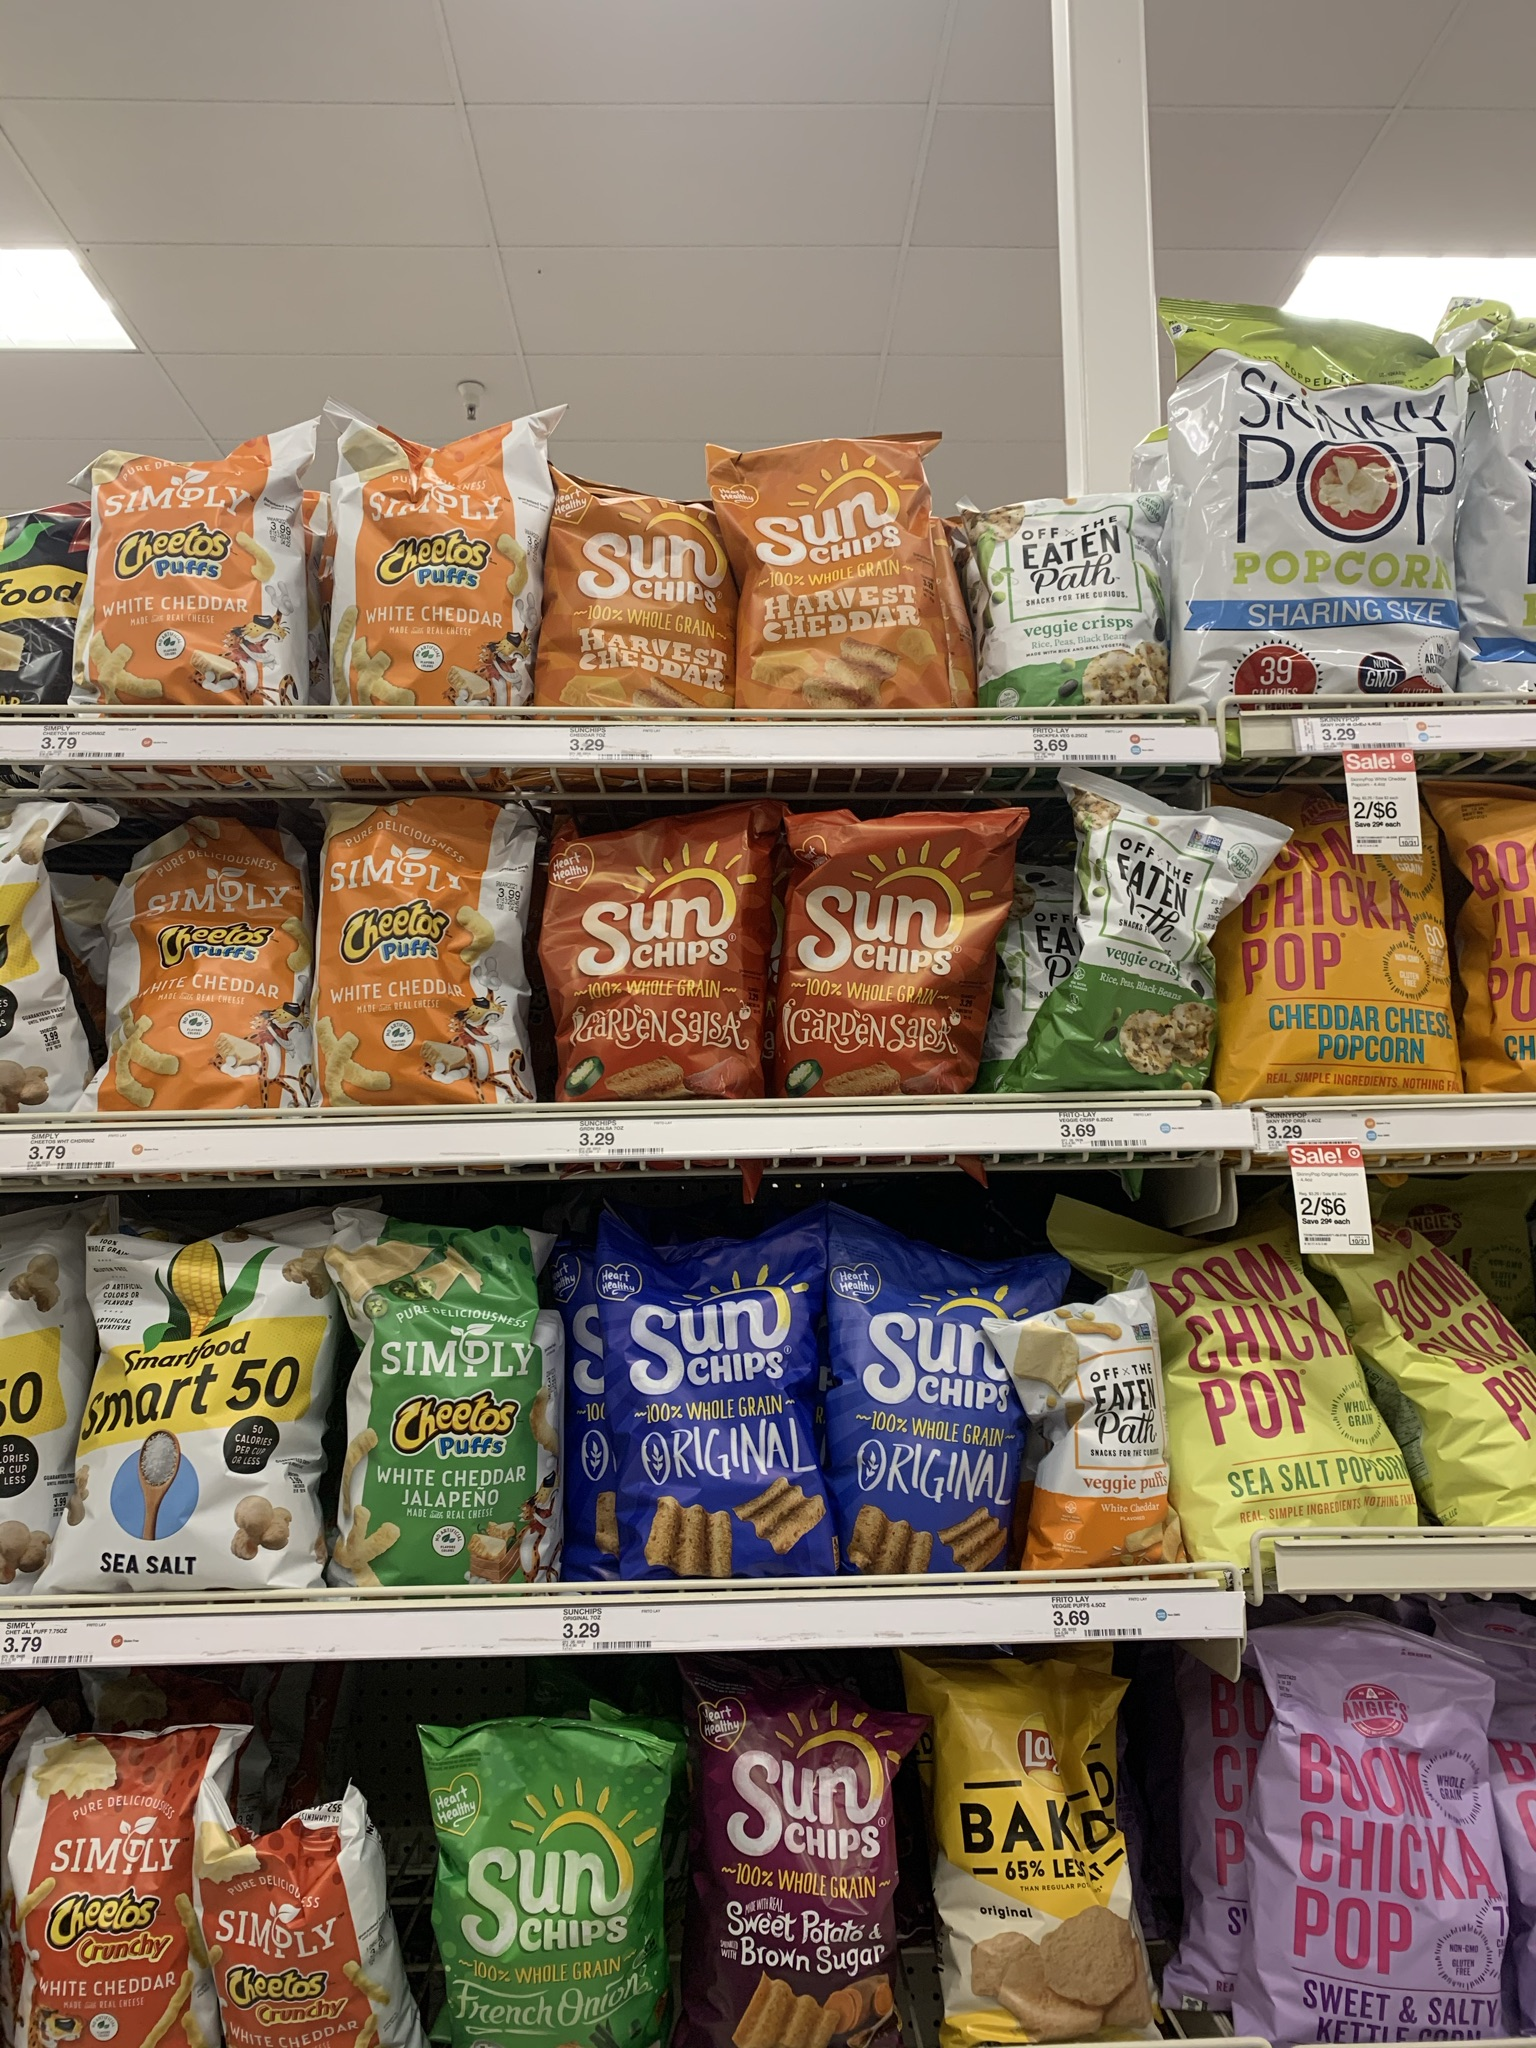Chips: (1154, 297, 1468, 695), (1233, 1650, 1505, 2048), (69, 1216, 326, 1625), (913, 1651, 1167, 2046), (310, 1203, 570, 1579), (405, 1703, 665, 2048), (581, 1216, 821, 1577), (682, 1675, 905, 2048), (773, 795, 1025, 1100), (311, 789, 537, 1109), (824, 1218, 1028, 1569), (326, 398, 542, 710), (1233, 811, 1465, 1097), (97, 816, 307, 1118), (1046, 758, 1233, 1095), (18, 1721, 211, 2045), (703, 440, 944, 698), (541, 819, 765, 1095), (74, 440, 307, 701), (194, 1792, 395, 2048), (549, 461, 736, 711), (957, 495, 1173, 701), (1007, 1321, 1181, 1567)
